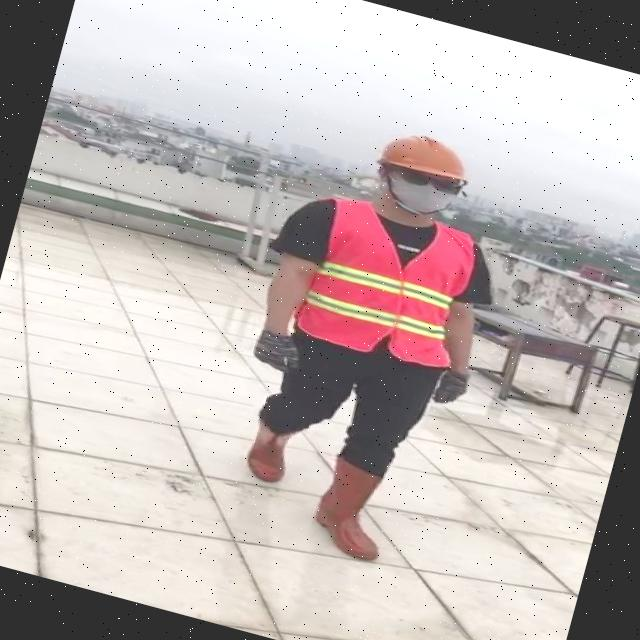boots: (306, 452, 401, 563), (240, 416, 300, 488)
helmet: (375, 120, 471, 184)
vest: (284, 192, 482, 372)
